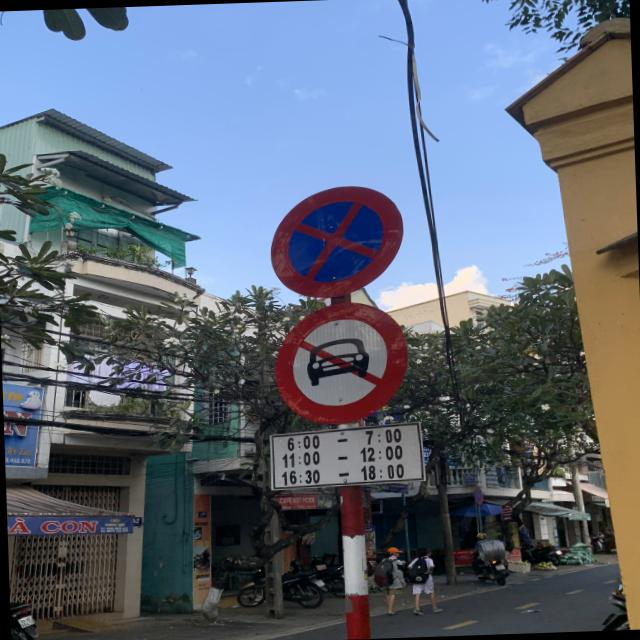Cam_Dung_Va_Dau_Xe: (266, 180, 407, 300)
Cam_O_To: (270, 296, 412, 428)
